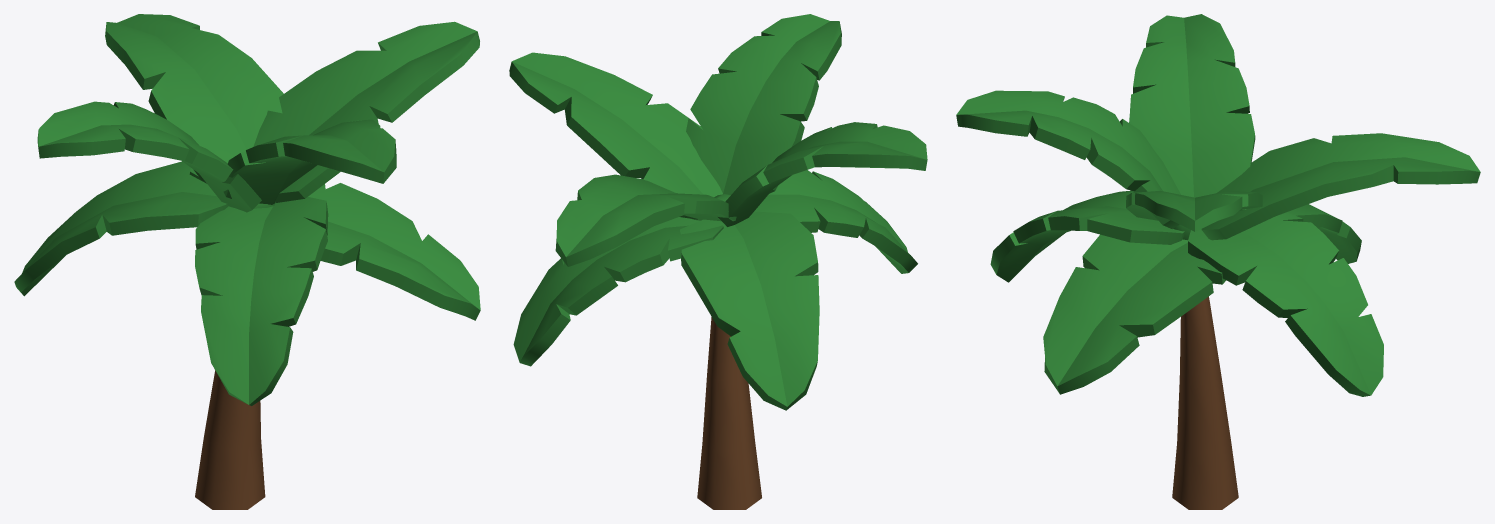
The model's file is GEO_PalmTree_A.glb.
3 views of the same model, side by side, from view 1: azimuth 30°, elevation 25°; view 2: azimuth 150°, elevation 25°; view 3: azimuth 270°, elevation 25° (orthographic). The views are drawn at different scales.
Visible parts, largest first — view 1: GEO_PalmTree_A; view 2: GEO_PalmTree_A; view 3: GEO_PalmTree_A.
Part boxes in pixels (x1=…): GEO_PalmTree_A: x1=14, y1=14, x2=480, y2=509; GEO_PalmTree_A: x1=509, y1=14, x2=927, y2=509; GEO_PalmTree_A: x1=956, y1=14, x2=1480, y2=509.
Size of the model in its own units: 4.29 by 3.9 by 4.6.
